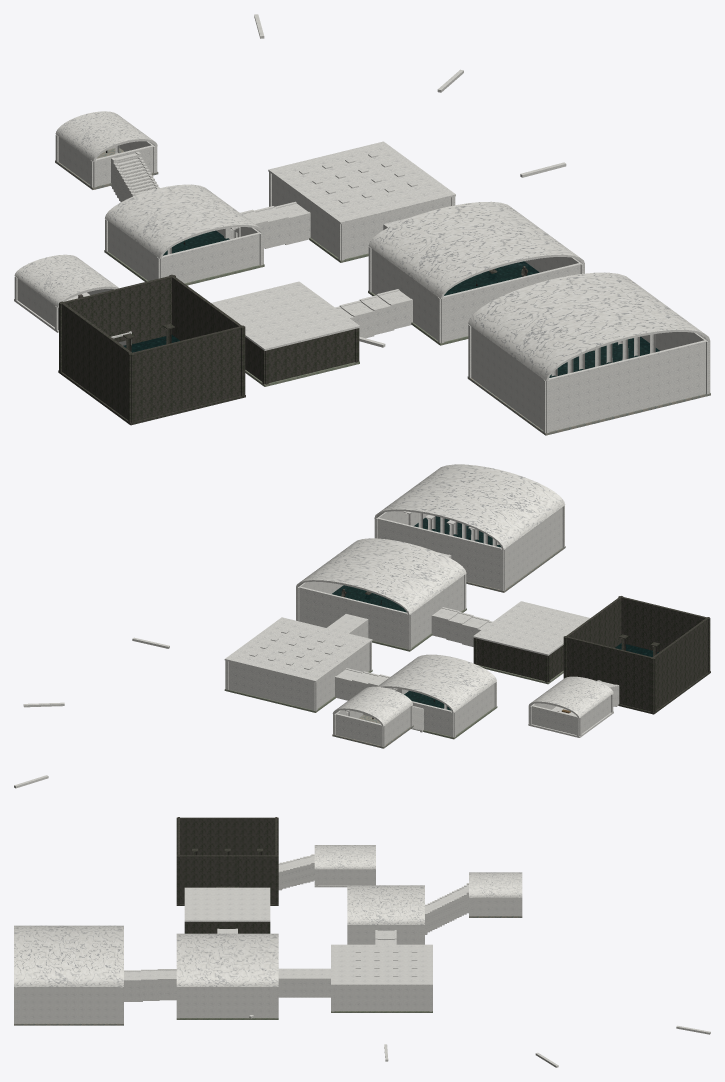
The model's file is world.glb.
3 views of the same model, one above another, from view 1: azimuth 30°, elevation 25°; view 2: azimuth 150°, elevation 25°; view 3: azimuth 270°, elevation 25° (orthographic). The views are drawn at different scales.
Parts seen in each view (by area): view 1: Build_drowned_crown_crownwater_marble, Build_drowned_crown_rubble_stone, Build_drowned_crown_water_deep, Walk_crownwater_sand, Walk_crownwater_mosaic, Walk_rubble_stone; view 2: Build_drowned_crown_crownwater_marble, Build_drowned_crown_rubble_stone, Build_drowned_crown_water_deep, Walk_crownwater_sand, Walk_crownwater_mosaic; view 3: Build_drowned_crown_crownwater_marble, Build_drowned_crown_rubble_stone, Walk_crownwater_mosaic, Walk_crownwater_sand.
Part boxes in pixels (left/top/right/bottom): Build_drowned_crown_crownwater_marble: left=14, top=14, right=710, bottom=433; Build_drowned_crown_rubble_stone: left=59, top=274, right=359, bottom=422; Build_drowned_crown_water_deep: left=123, top=230, right=659, bottom=377; Walk_crownwater_sand: left=104, top=237, right=468, bottom=386; Walk_crownwater_mosaic: left=55, top=148, right=710, bottom=435; Walk_rubble_stone: left=58, top=370, right=245, bottom=425; Build_drowned_crown_crownwater_marble: left=14, top=464, right=619, bottom=788; Build_drowned_crown_rubble_stone: left=473, top=596, right=710, bottom=712; Build_drowned_crown_water_deep: left=332, top=516, right=658, bottom=710; Walk_crownwater_sand: left=224, top=608, right=563, bottom=739; Walk_crownwater_mosaic: left=332, top=546, right=565, bottom=748; Build_drowned_crown_crownwater_marble: left=14, top=845, right=710, bottom=1067; Build_drowned_crown_rubble_stone: left=176, top=817, right=278, bottom=933; Walk_crownwater_mosaic: left=14, top=916, right=522, bottom=1025; Walk_crownwater_sand: left=176, top=1011, right=432, bottom=1019.
Bounding box in the file's own units: 121 × 17.58 × 172.
14 materials, 14 textured.
